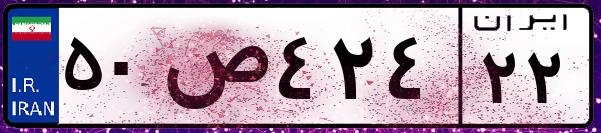0: (110, 28, 158, 98)
2: (330, 28, 385, 110), (475, 38, 525, 113), (525, 38, 570, 115)
4: (270, 28, 330, 110), (385, 28, 445, 110)
5: (57, 26, 110, 100)
ص: (158, 20, 270, 120)
